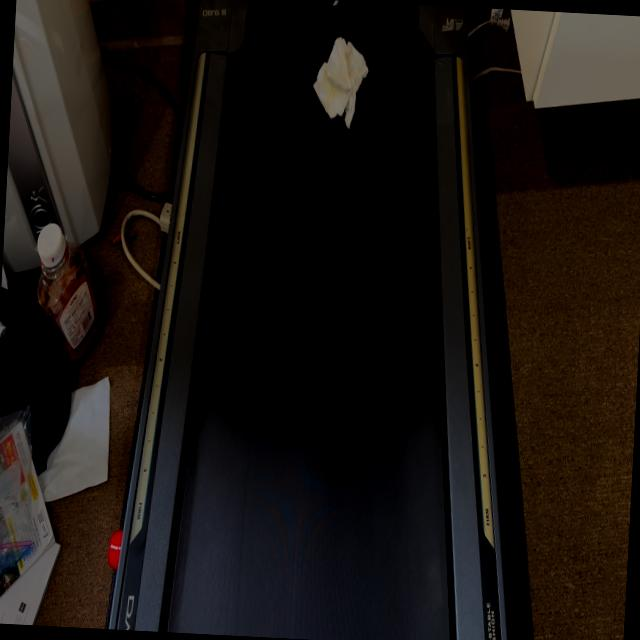Recycle: (313, 34, 370, 130)
